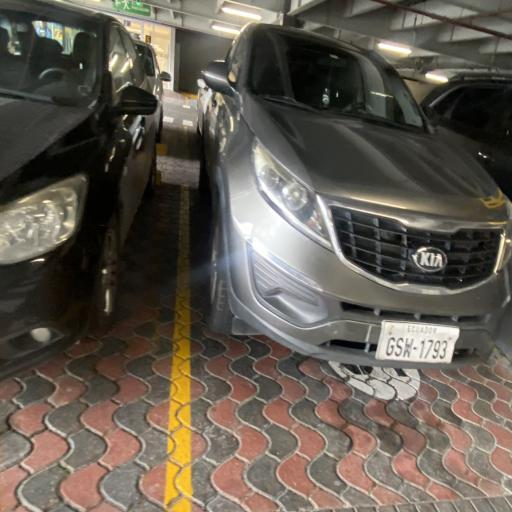license_plate: (403, 337, 414, 360), (385, 336, 396, 358), (424, 340, 434, 360), (432, 340, 441, 360), (395, 337, 403, 358), (440, 340, 447, 361), (419, 338, 425, 360)
